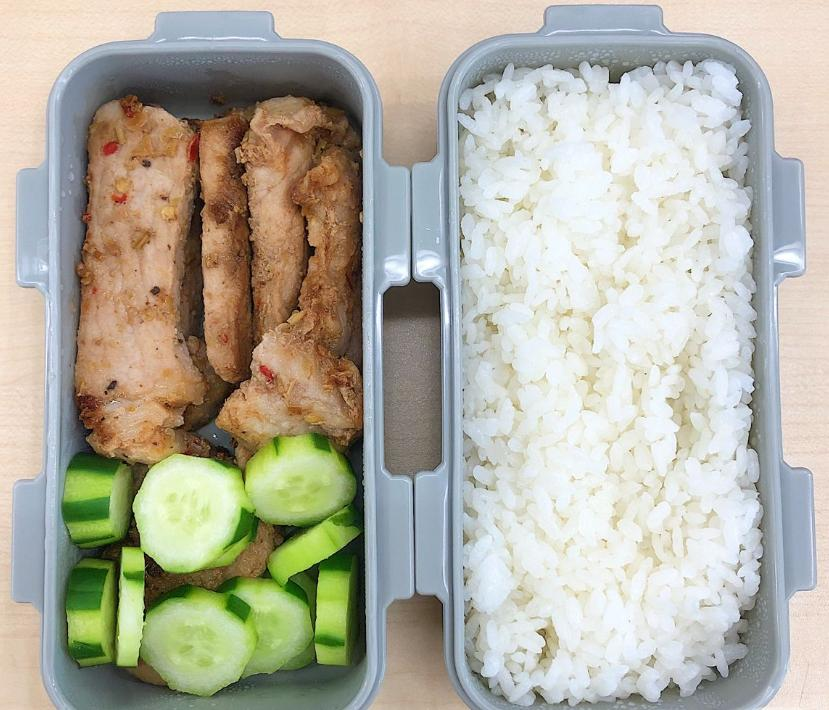buah_sayur_lainnya: (73, 475, 355, 663)
daging: (96, 109, 347, 434)
makanan_berpati: (480, 87, 739, 656)
